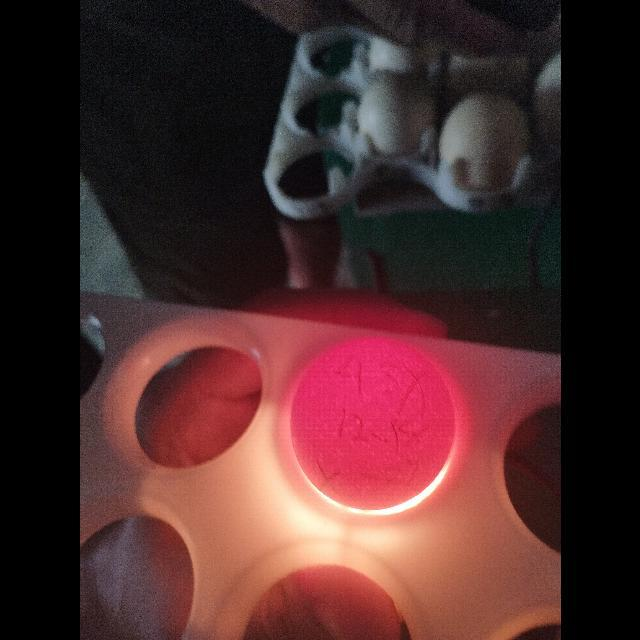Infertile: (286, 333, 460, 513)
